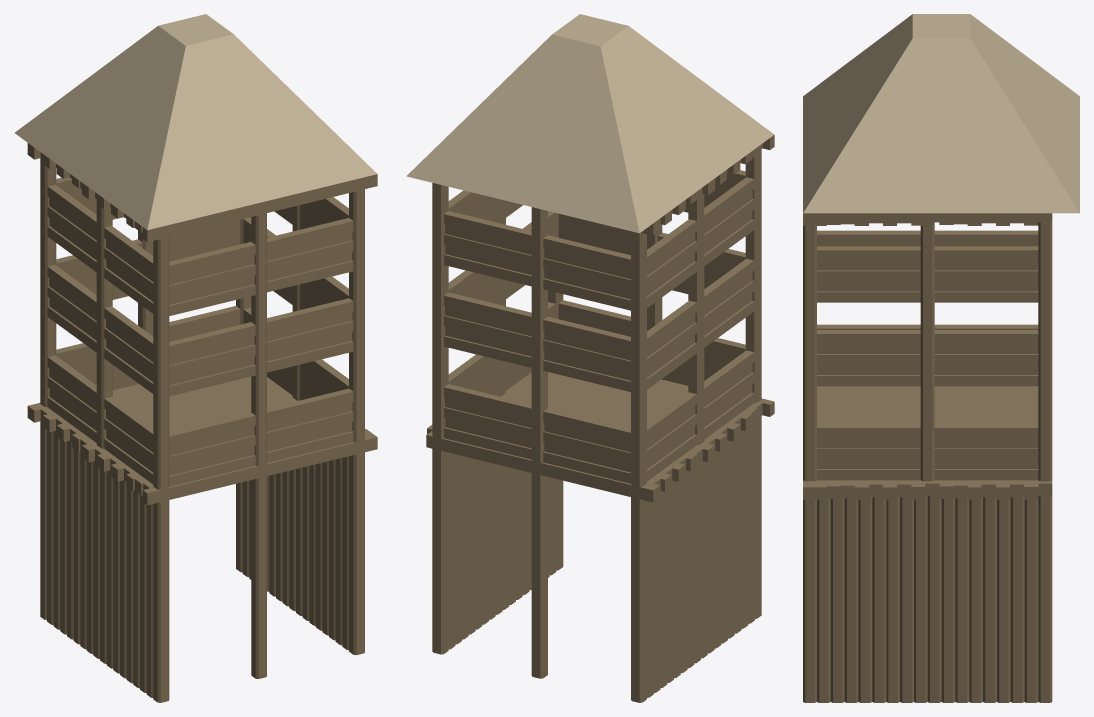
The model's file is Gate.glb.
3 views of the same model, side by side, from view 1: azimuth 30°, elevation 25°; view 2: azimuth 150°, elevation 25°; view 3: azimuth 270°, elevation 25° (orthographic). The views are drawn at different scales.
Visible parts, largest first — view 1: Object.038, Object.036, Object.034, Object.001, Object.030, Object.027, Object.031, Object.026, Object.029, Object.028, Object.033, Object (+20 smaller); view 2: Object.038, Object.036, Object.034, Object.001, Object.013, Object.014, Object.015, Object.012, Object.010, Object.011, Object.009, Object.016 (+20 smaller); view 3: Object.034, Object.038, Object.001, Object.018, Object.019, Object.020, Object.021, Object.022, Object.023, Object.017, Object.024, Object.025 (+5 smaller).
Boxes of the visible parts, bbox=[...] form: Object.038: bbox=[15, 14, 376, 230]; Object.036: bbox=[40, 421, 169, 702]; Object.034: bbox=[236, 452, 364, 655]; Object.001: bbox=[27, 376, 377, 505]; Object.030: bbox=[169, 322, 255, 396]; Object.027: bbox=[267, 298, 353, 372]; Object.031: bbox=[169, 412, 255, 486]; Object.026: bbox=[267, 218, 353, 292]; Object.029: bbox=[169, 242, 255, 315]; Object.028: bbox=[267, 388, 353, 462]; Object.033: bbox=[153, 237, 169, 489]; Object: bbox=[27, 143, 377, 242]; Object.038: bbox=[406, 14, 774, 233]; Object.036: bbox=[631, 416, 761, 702]; Object.034: bbox=[432, 449, 563, 654]; Object.001: bbox=[426, 372, 774, 502]; Object.013: bbox=[444, 211, 531, 286]; Object.014: bbox=[444, 292, 531, 367]; Object.015: bbox=[444, 384, 531, 459]; Object.012: bbox=[543, 408, 630, 483]; Object.010: bbox=[543, 235, 630, 310]; Object.011: bbox=[543, 316, 630, 391]; Object.009: bbox=[631, 231, 646, 486]; Object.016: bbox=[531, 207, 547, 462]; Object.034: bbox=[803, 496, 1052, 702]; Object.038: bbox=[803, 14, 1079, 213]; Object.001: bbox=[803, 386, 1052, 499]; Object.018: bbox=[934, 246, 1038, 302]; Object.019: bbox=[934, 330, 1038, 386]; Object.020: bbox=[934, 424, 1038, 480]; Object.021: bbox=[817, 246, 920, 302]; Object.022: bbox=[817, 330, 920, 386]; Object.023: bbox=[817, 424, 920, 480]; Object.017: bbox=[1038, 222, 1052, 481]; Object.024: bbox=[920, 222, 934, 481]; Object.025: bbox=[803, 226, 816, 481].
Size of the model in its own units: 3.6 by 8.96 by 3.6.
